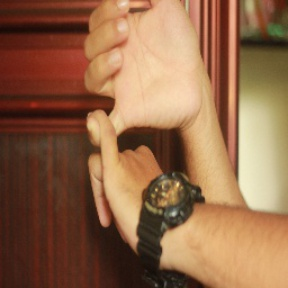S: (76, 1, 203, 230)
